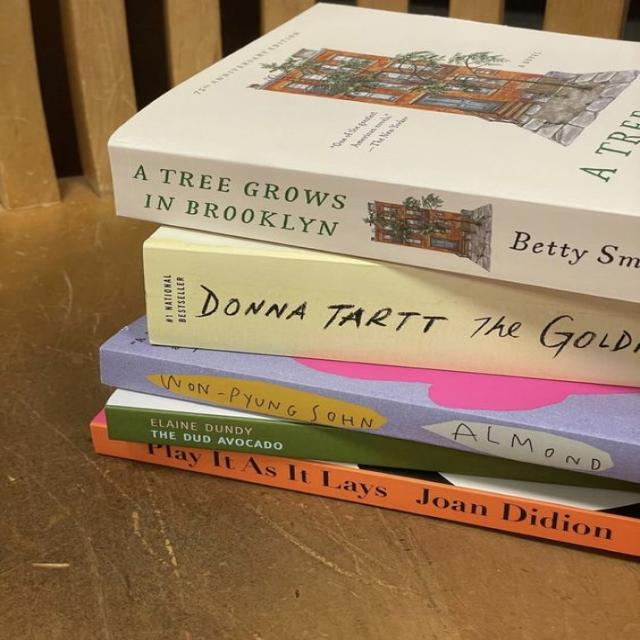book: (114, 143, 637, 304), (145, 228, 639, 387), (99, 343, 640, 484), (93, 427, 637, 558), (104, 409, 633, 482)
